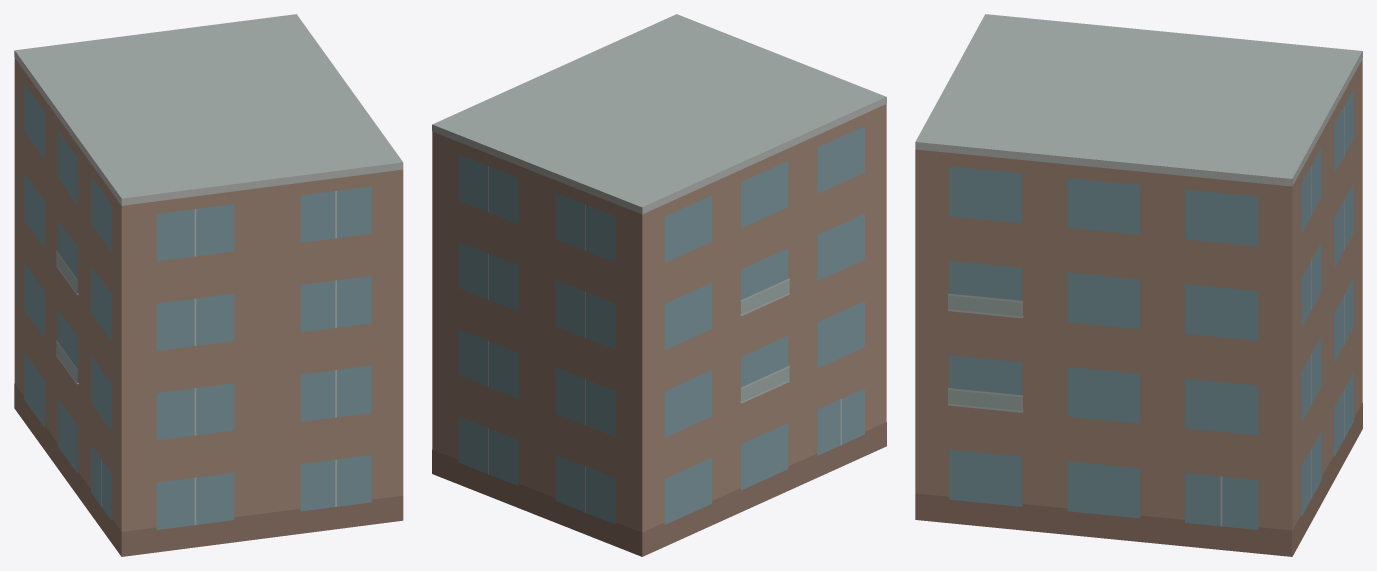
File: residential-ffc20103-d629-4fc9-b706-521c9816b36f.glb
3 renders of one model, left to right at view 1: azimuth 30°, elevation 25°; view 2: azimuth 150°, elevation 25°; view 3: azimuth 270°, elevation 25°, orthographic. The views are drawn at different scales.
Parts seen in each view (by area): view 1: residential-ffc20103-d629-4fc9-b706-521c9816b36f.tmp; view 2: residential-ffc20103-d629-4fc9-b706-521c9816b36f.tmp; view 3: residential-ffc20103-d629-4fc9-b706-521c9816b36f.tmp.
Part boxes in pixels (x1=…): residential-ffc20103-d629-4fc9-b706-521c9816b36f.tmp: x1=14, y1=14, x2=403, y2=556; residential-ffc20103-d629-4fc9-b706-521c9816b36f.tmp: x1=432, y1=14, x2=886, y2=556; residential-ffc20103-d629-4fc9-b706-521c9816b36f.tmp: x1=915, y1=14, x2=1362, y2=556.
Size of the model in its own units: 11.43 by 12.2 by 13.1.
